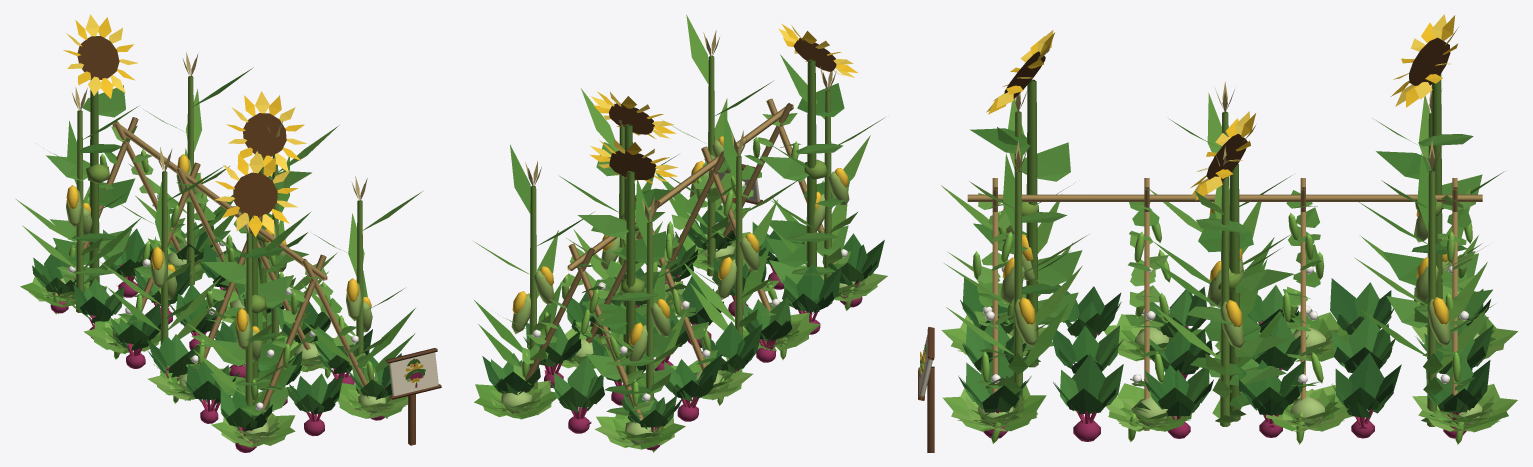
Rendered from garden2.glb.
3 views of the same model, side by side, from view 1: azimuth 30°, elevation 25°; view 2: azimuth 150°, elevation 25°; view 3: azimuth 270°, elevation 25° (orthographic). The views are drawn at different scales.
Parts seen in each view (by area): view 1: garden_sunf_3, garden_corn_3, garden_beet_3, garden_peas_3, garden_lettuce_3, garden_beet_2, garden_peas_1, garden_corn_2, garden_sunf_2, garden_peas_2, garden_sign_lettuce, garden_lettuce_2; view 2: garden_corn_3, garden_beet_3, garden_sunf_3, garden_peas_3, garden_lettuce_3, garden_peas_2, garden_corn_2, garden_beet_2, garden_sunf_2, garden_peas_1, garden_lettuce_2; view 3: garden_beet_3, garden_sunf_3, garden_corn_3, garden_peas_3, garden_lettuce_3, garden_peas_2, garden_beet_2, garden_corn_2, garden_sunf_2, garden_lettuce_2, garden_sign_lettuce.
Boxes of the visible parts, x1,y1,x2,y2 form: garden_sunf_3: (46,14,311,405); garden_corn_3: (16,52,422,406); garden_beet_3: (32,222,401,452); garden_peas_3: (47,117,387,430); garden_lettuce_3: (20,239,407,447); garden_beet_2: (42,229,392,431); garden_peas_1: (70,117,367,416); garden_corn_2: (22,148,415,406); garden_sunf_2: (50,164,293,410); garden_peas_2: (57,119,383,434); garden_sign_lettuce: (386,348,441,445); garden_lettuce_2: (40,258,397,442); garden_corn_3: (473,14,885,400); garden_beet_3: (482,205,884,450); garden_sunf_3: (578,23,858,397); garden_peas_3: (522,98,854,452); garden_lettuce_3: (474,232,887,449); garden_peas_2: (499,100,859,431); garden_corn_2: (478,150,848,396); garden_beet_2: (491,215,871,429); garden_sunf_2: (585,159,848,415); garden_peas_1: (524,98,838,419); garden_lettuce_2: (488,241,865,445); garden_beet_3: (958,277,1493,441); garden_sunf_3: (970,14,1492,421); garden_corn_3: (941,81,1504,426); garden_peas_3: (967,187,1482,444); garden_lettuce_3: (941,312,1517,432); garden_peas_2: (974,178,1471,430); garden_beet_2: (963,289,1485,426); garden_corn_2: (946,234,1494,426); garden_sunf_2: (977,202,1488,421); garden_lettuce_2: (965,324,1495,428); garden_sign_lettuce: (918,327,934,452).
Bounding box in the file's own units: 0.6892 × 0.8724 × 1.31.
